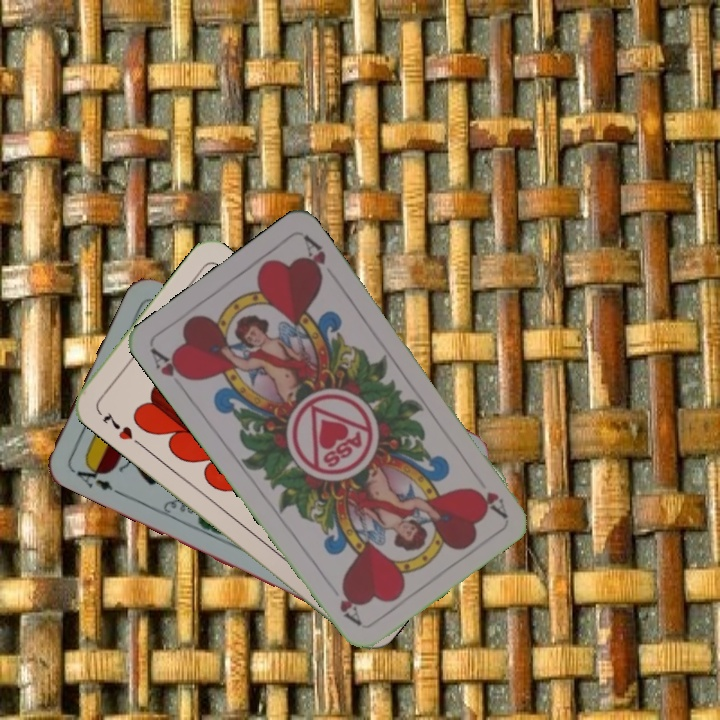EA: (73, 458, 123, 497)
H7: (98, 408, 135, 443)
HA: (146, 344, 194, 384), (475, 486, 509, 519)
